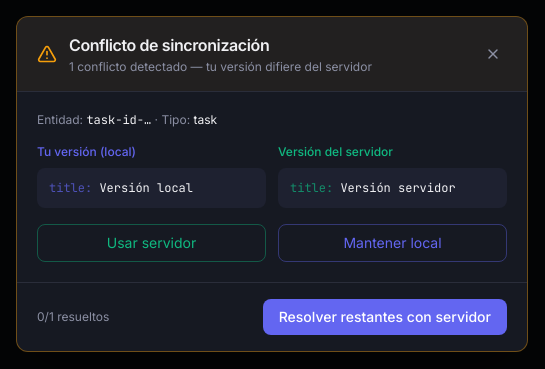
ConflictModal — botón de finalizar › muestra "Aplicando…" mientras finaliza
The width and height of the screenshot is (545, 369).
Click the button "Resolver restantes con servidor". click: (385, 317)
box: x1=263 y1=299 x2=507 y2=335
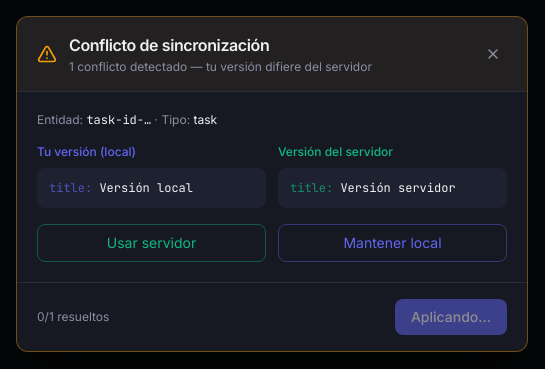
Check: the button "Aplicando…" is shown, box x1=395 y1=299 x2=507 y2=335
